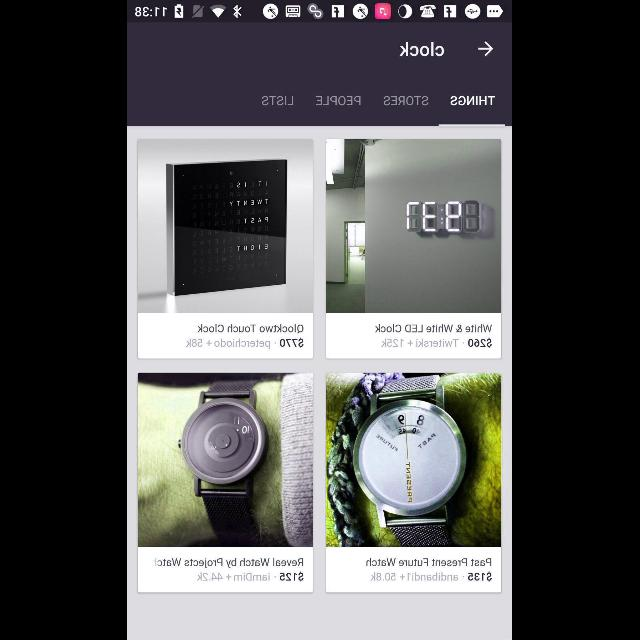icon: (478, 41, 494, 57)
image: (326, 373, 502, 547), (138, 373, 314, 547), (138, 139, 314, 313), (326, 139, 502, 313)
panel: (326, 372, 502, 594), (138, 138, 314, 360), (326, 138, 502, 360), (138, 373, 314, 593)
text: (154, 558, 304, 568), (372, 572, 492, 582), (186, 338, 304, 348), (382, 338, 492, 348), (198, 572, 304, 582), (198, 324, 304, 334), (376, 323, 492, 332), (368, 558, 492, 566), (400, 42, 446, 56), (384, 96, 430, 106), (317, 96, 361, 106), (451, 96, 495, 106), (262, 96, 294, 106)
uppertaskbar: (128, 1, 512, 23)
